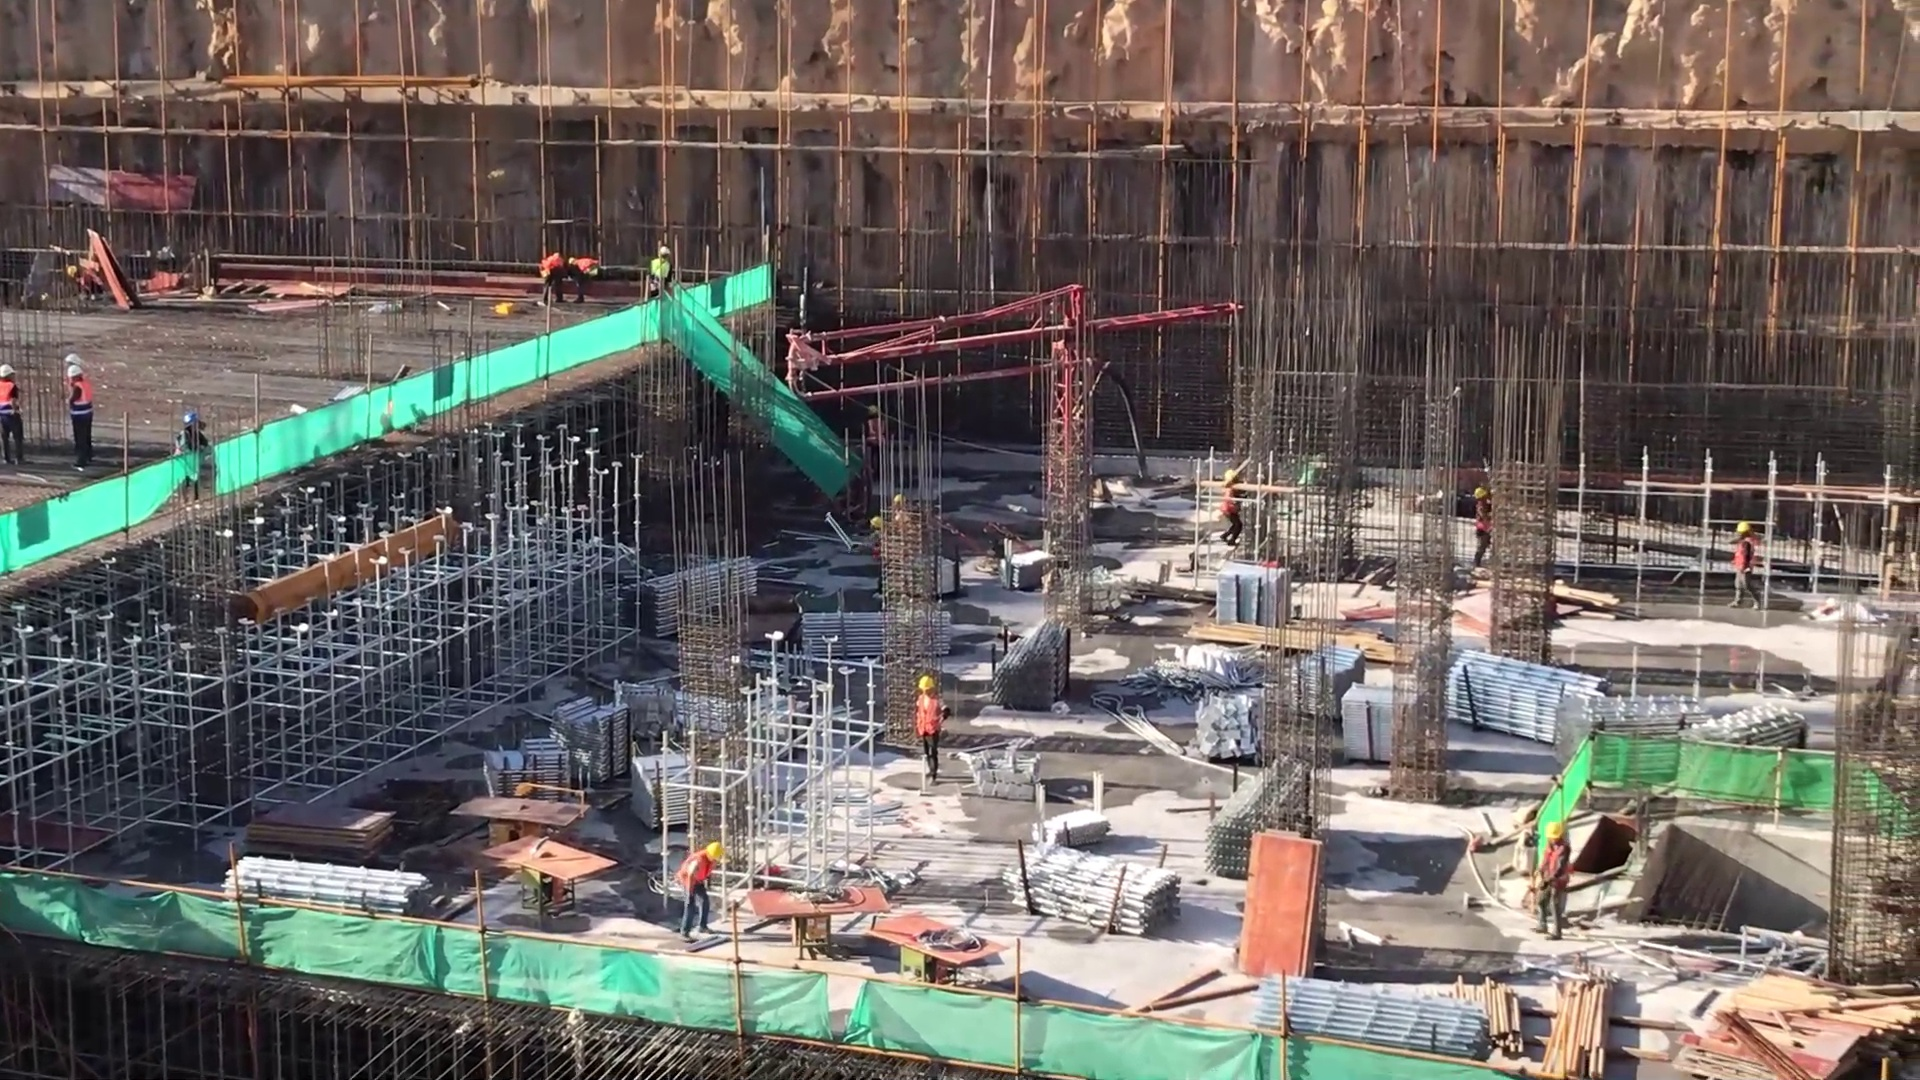helmet: (1540, 820, 1567, 845), (866, 512, 890, 534), (703, 842, 729, 860), (1, 359, 19, 381), (66, 363, 85, 382), (1735, 522, 1755, 541), (915, 676, 940, 691), (67, 351, 86, 369), (1469, 485, 1493, 499), (1223, 463, 1239, 480), (184, 413, 202, 429), (890, 494, 911, 506), (658, 244, 672, 260), (568, 256, 577, 266)
person: (1529, 816, 1582, 937), (673, 841, 733, 941), (911, 671, 953, 793), (174, 410, 211, 513), (64, 363, 96, 475), (1728, 522, 1763, 613), (645, 246, 680, 324), (1467, 486, 1500, 567), (1, 363, 26, 472), (863, 512, 892, 601), (1221, 463, 1247, 554), (863, 402, 888, 488), (566, 252, 602, 310), (540, 249, 570, 311)
vest: (676, 852, 713, 897), (1541, 842, 1574, 892), (916, 694, 942, 739), (1220, 481, 1246, 521), (69, 383, 94, 415), (649, 257, 674, 286), (576, 256, 599, 281)
